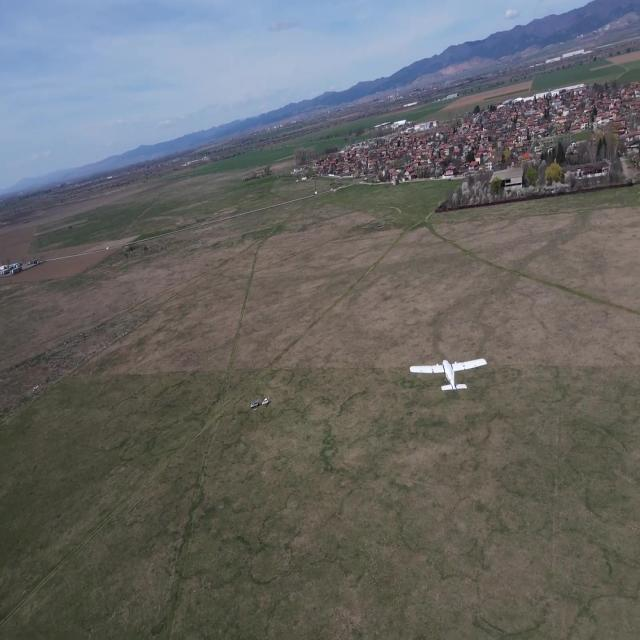iha: (441, 357, 459, 393)
